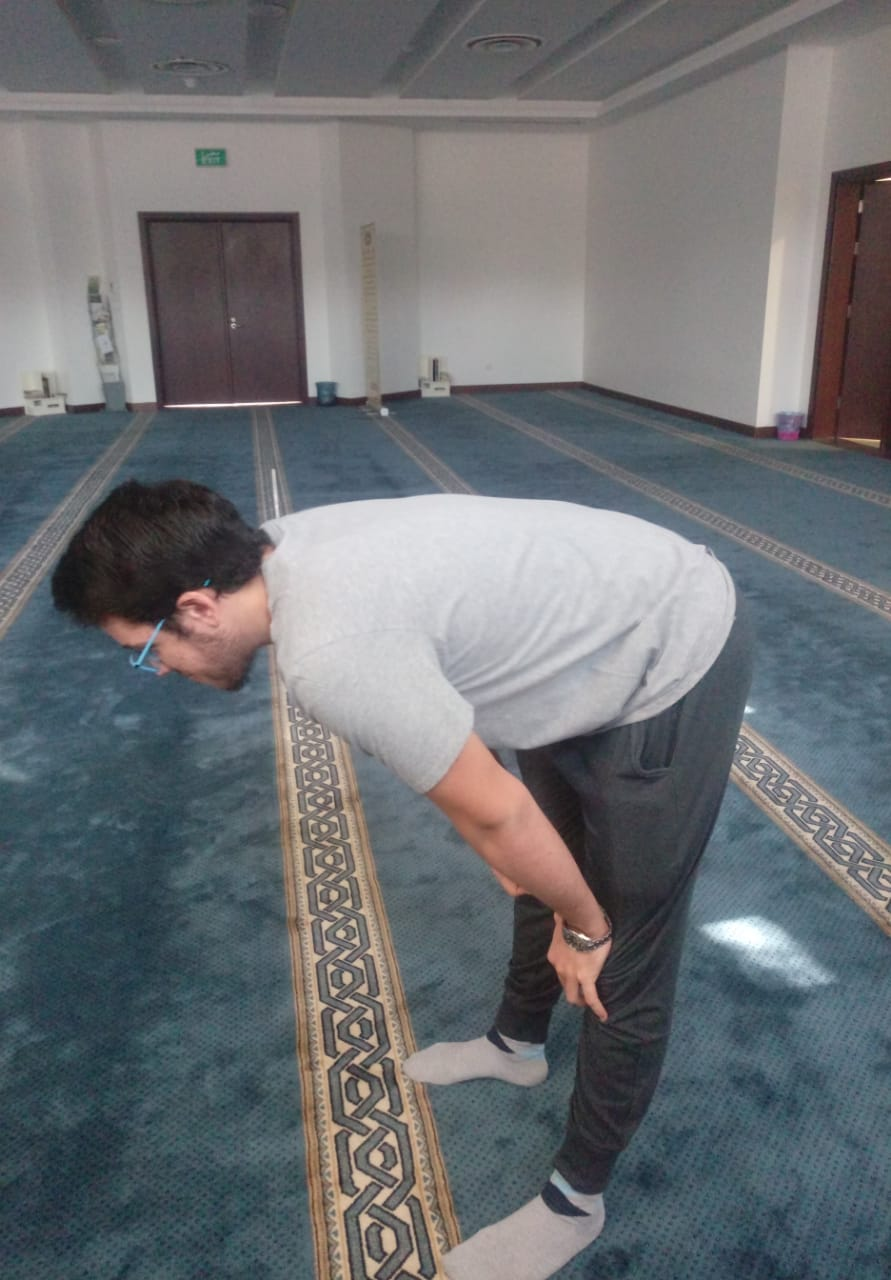ruku: (83, 427, 814, 1280)
